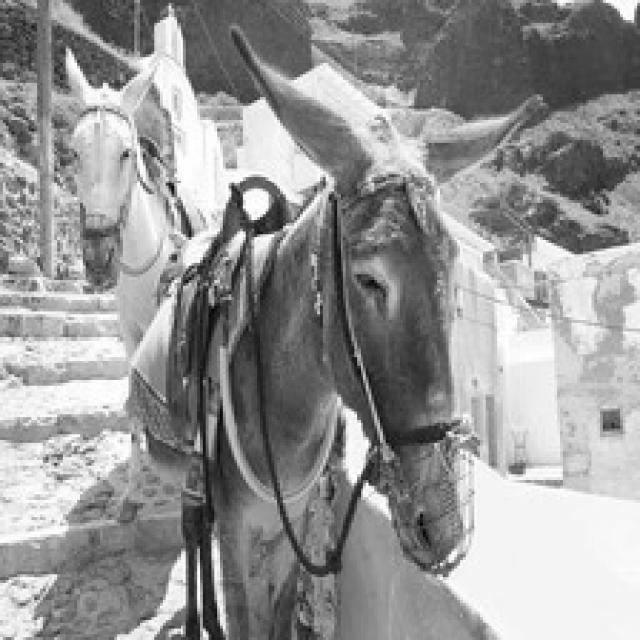Donkey: (163, 20, 548, 637), (60, 43, 340, 637), (60, 43, 226, 523)
